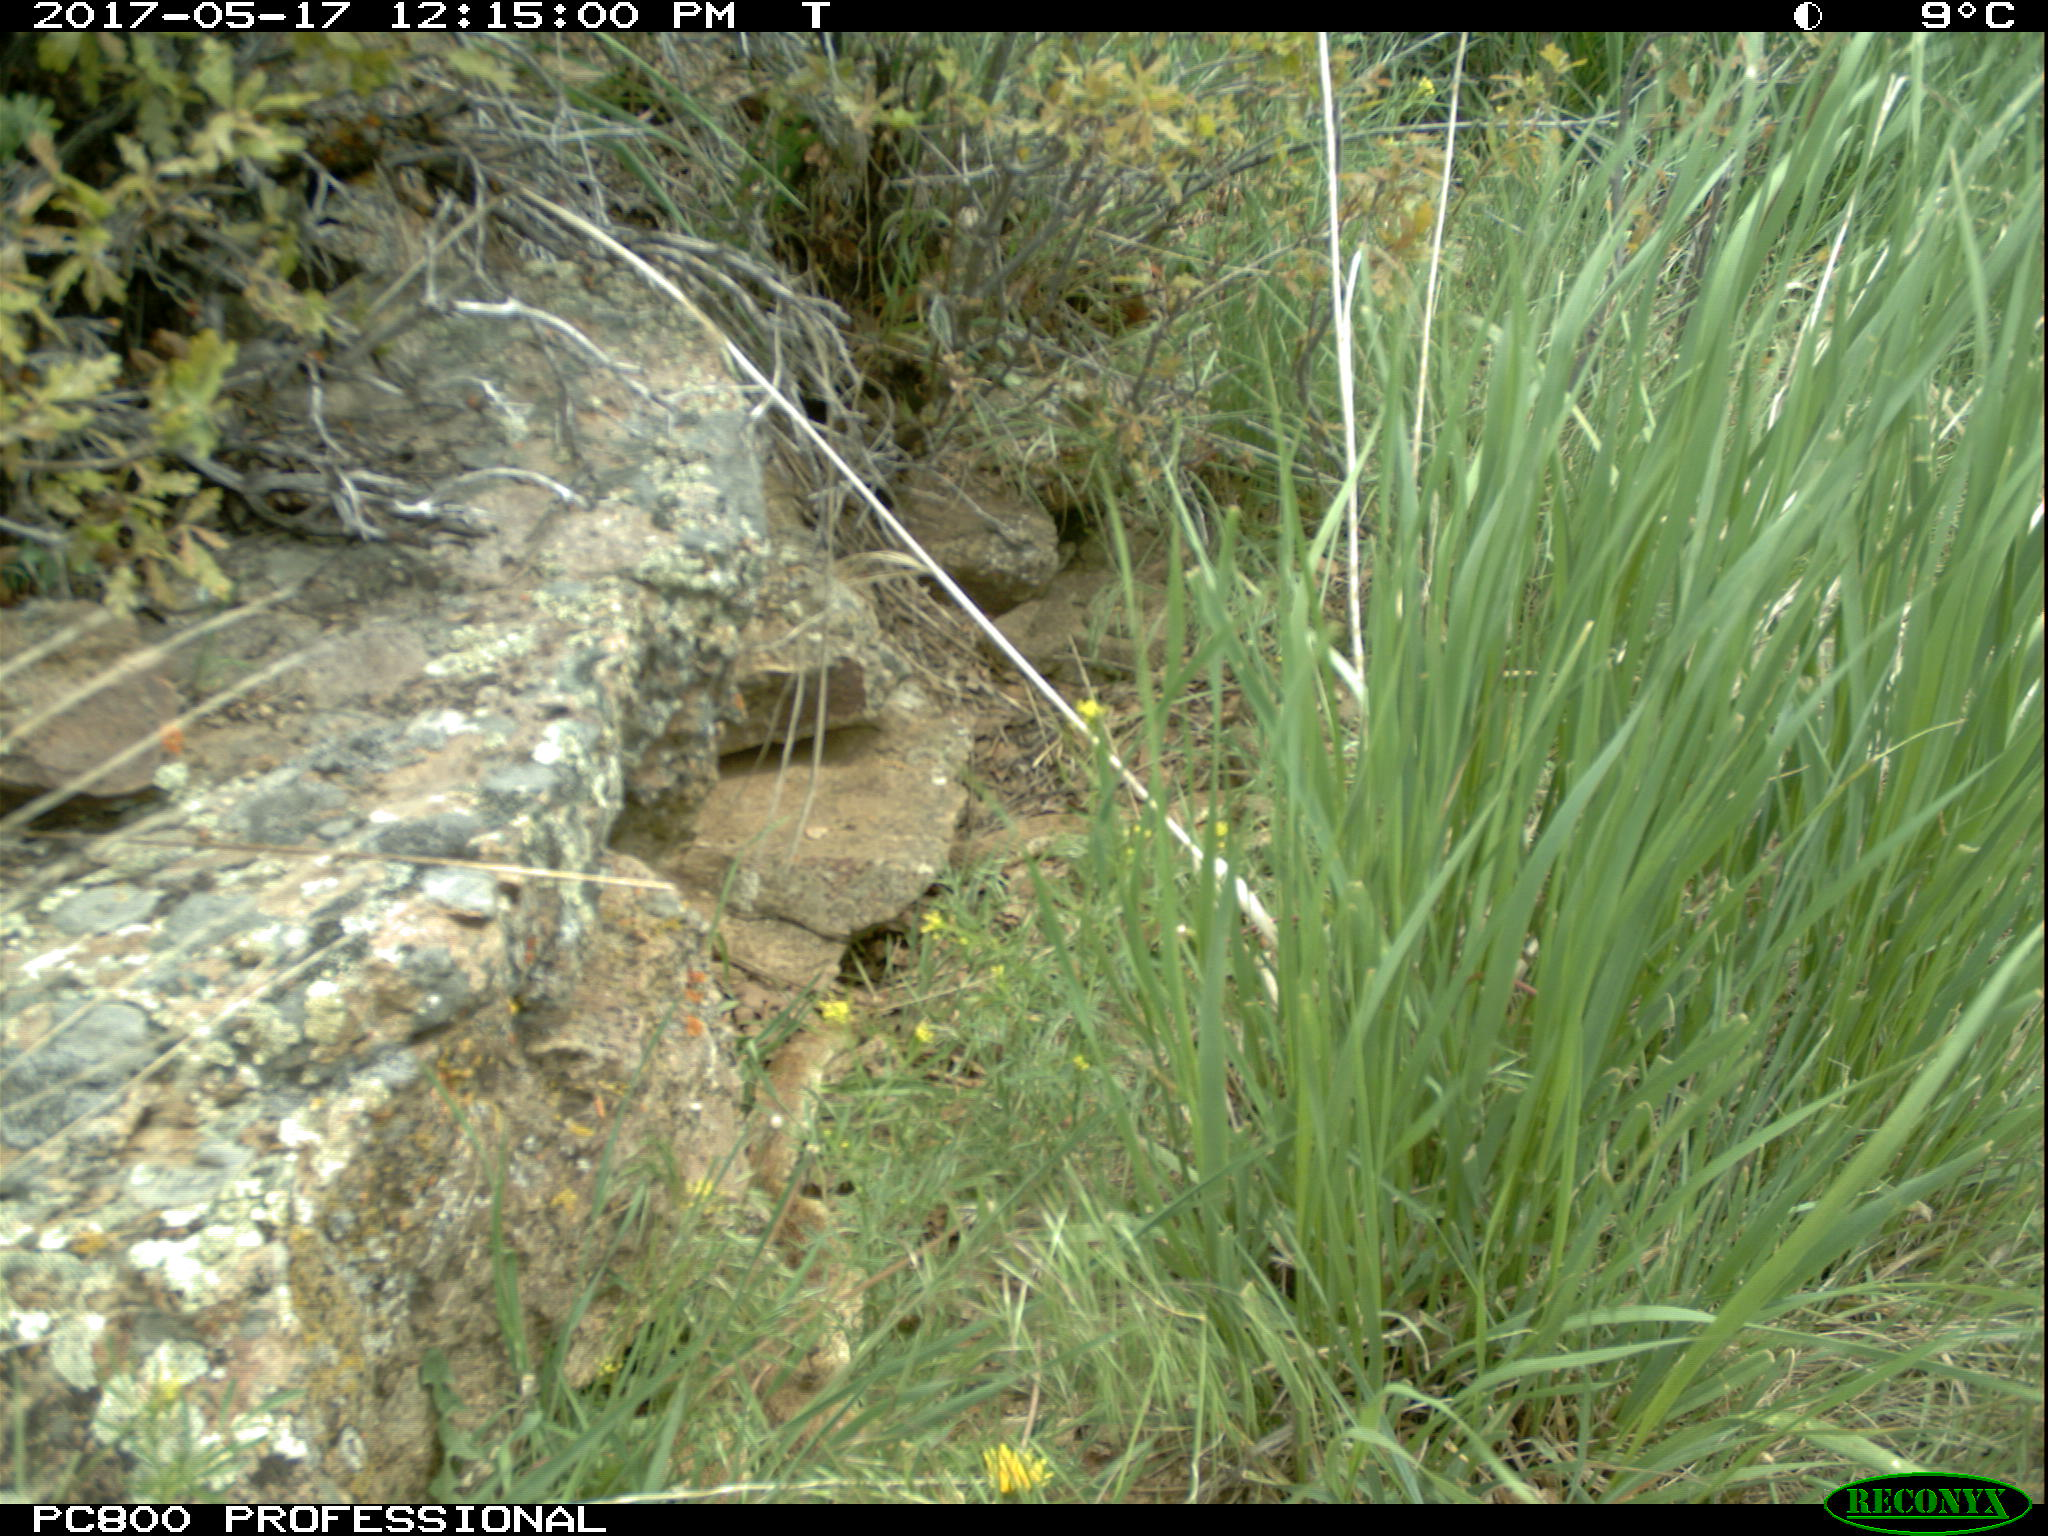snake: (747, 1026, 863, 1407), (955, 791, 1272, 865), (995, 573, 1185, 686)
